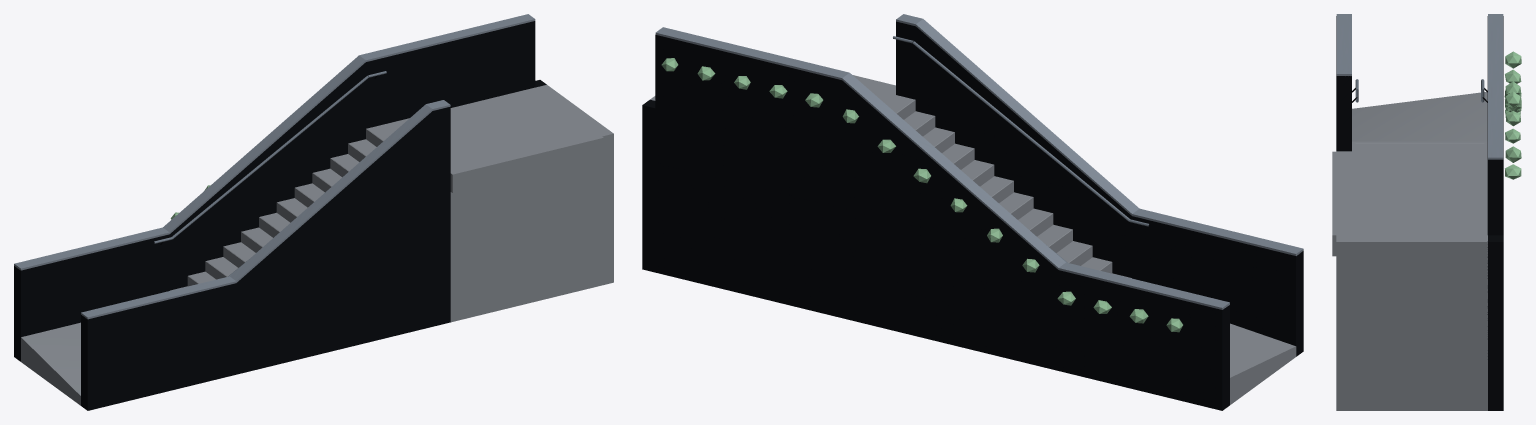
3 renders of one model, left to right at view 1: azimuth 30°, elevation 25°; view 2: azimuth 150°, elevation 25°; view 3: azimuth 270°, elevation 25°, orthographic. The views are drawn at different scales.
Visible parts, largest first — view 1: Cheek_Walls, Stair_Body, Cheek_Caps, Handrail; view 2: Cheek_Walls, Cheek_Caps, Stair_Body, Cheek_Green_Band, Handrail; view 3: Stair_Body, Cheek_Walls, Cheek_Caps, Cheek_Green_Band.
Part boxes in pixels (x1,y1,x2,y2): Cheek_Walls: (14, 21, 546, 410); Stair_Body: (21, 85, 613, 405); Cheek_Caps: (14, 14, 535, 319); Handrail: (154, 71, 386, 276); Cheek_Walls: (642, 21, 1303, 410); Cheek_Caps: (655, 14, 1303, 309); Stair_Body: (650, 75, 1296, 404); Cheek_Green_Band: (661, 58, 1182, 332); Handrail: (893, 36, 1148, 262); Stair_Body: (1332, 92, 1487, 410); Cheek_Walls: (1336, 16, 1503, 410); Cheek_Caps: (1336, 14, 1503, 159); Cheek_Green_Band: (1504, 51, 1521, 179).
Size of what is drawn, in the model's own units: 8.85 by 3.5 by 2.43.
7 materials, 5 textured.
